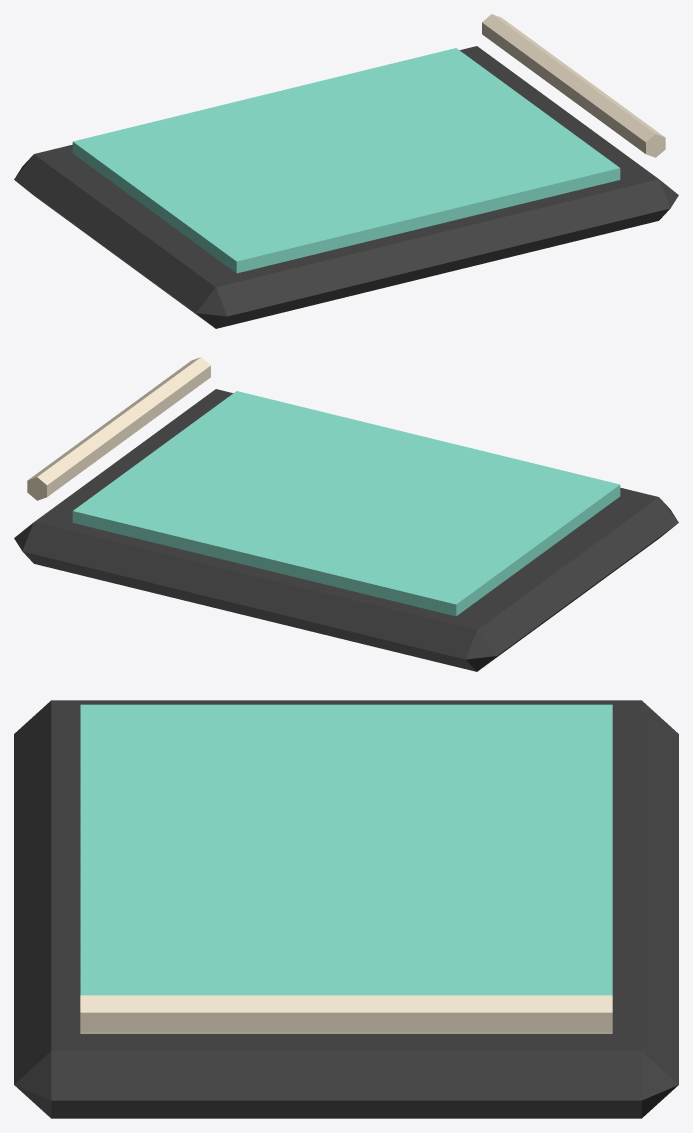
3 views of the same model, one above another, from view 1: azimuth 30°, elevation 25°; view 2: azimuth 150°, elevation 25°; view 3: azimuth 270°, elevation 25° (orthographic). The views are drawn at different scales.
Visible parts, largest first — view 1: Drawing area, Tablet, Pen; view 2: Drawing area, Tablet, Pen; view 3: Drawing area, Tablet, Pen.
Part boxes in pixels (x1,y1,x2,y2): Drawing area: (72, 48, 620, 273); Tablet: (14, 46, 678, 328); Pen: (482, 14, 665, 157); Drawing area: (72, 391, 620, 616); Tablet: (14, 389, 678, 671); Pen: (27, 357, 210, 500); Drawing area: (80, 704, 612, 995); Tablet: (14, 700, 678, 1118); Pen: (80, 995, 612, 1033).
Size of the model in its own units: 34 by 5.3 by 25.
